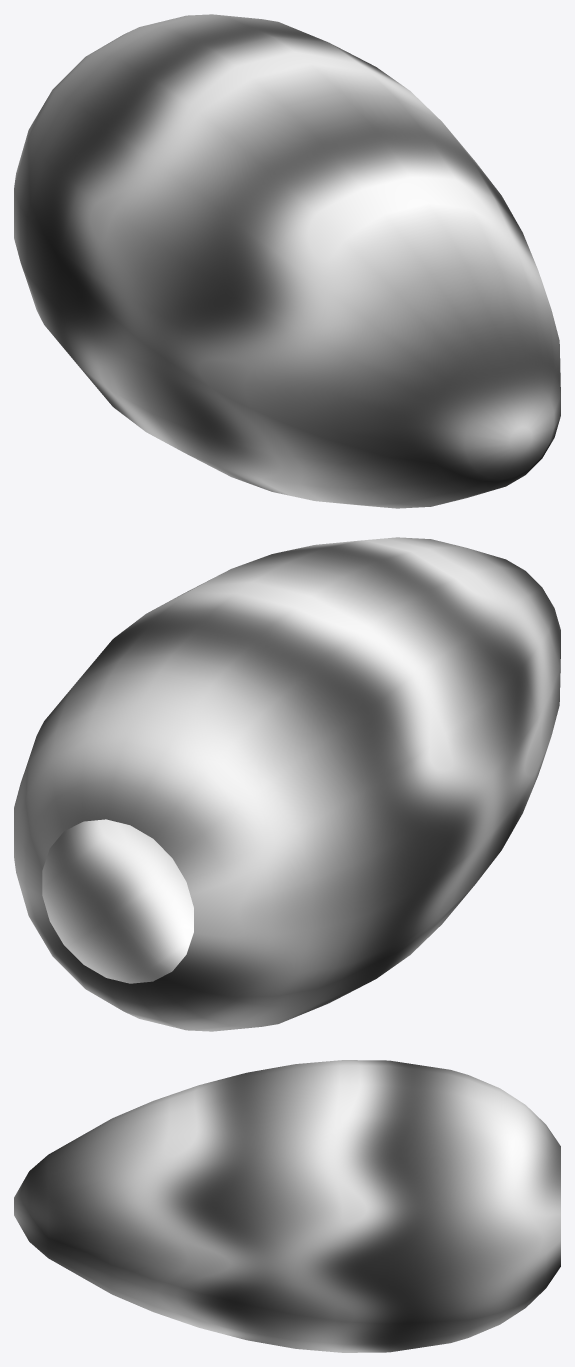
Rendered from Fire_Bullet_Enemy_3.fbx.
3 views of the same model, one above another, from view 1: azimuth 30°, elevation 25°; view 2: azimuth 150°, elevation 25°; view 3: azimuth 270°, elevation 25° (orthographic). The views are drawn at different scales.
Visible parts, largest first — view 1: Fire_Bullet_3; view 2: Fire_Bullet_3; view 3: Fire_Bullet_3.
Boxes of the visible parts, bbox=[...] form: Fire_Bullet_3: bbox=[14, 14, 560, 508]; Fire_Bullet_3: bbox=[14, 537, 560, 1031]; Fire_Bullet_3: bbox=[14, 1060, 560, 1352].
Bounding box in the file's own units: 181 × 181 × 341.
1 material, 1 textured.
